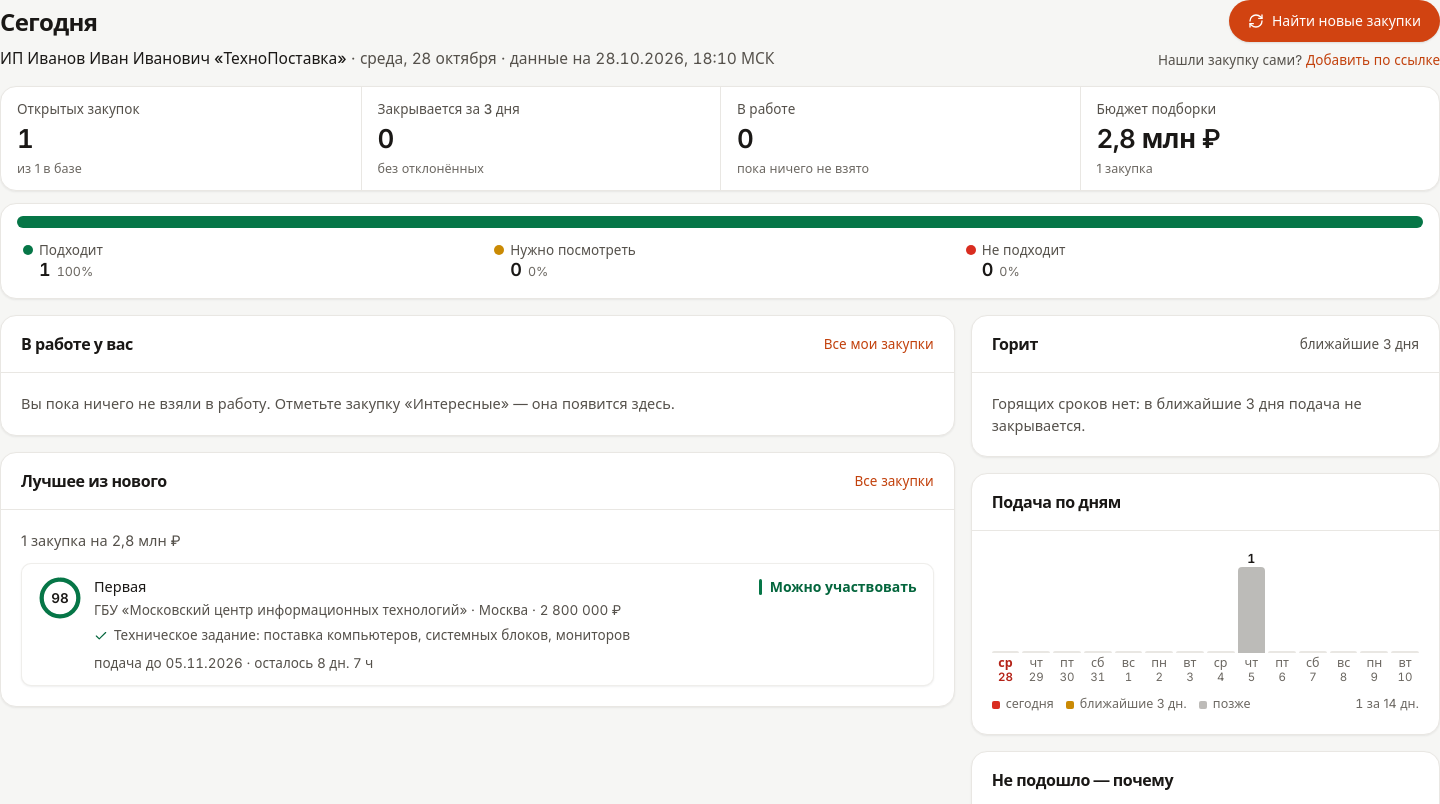
Scenario: DashboardView — экран «Сегодня» › «Найти новые закупки» — одна кнопка: нажатие сразу запускает поиск, панели и второго «Запустить» нет
Click the button "Найти новые закупки": (1334, 21) x1=1229 y1=0 x2=1439 y2=42
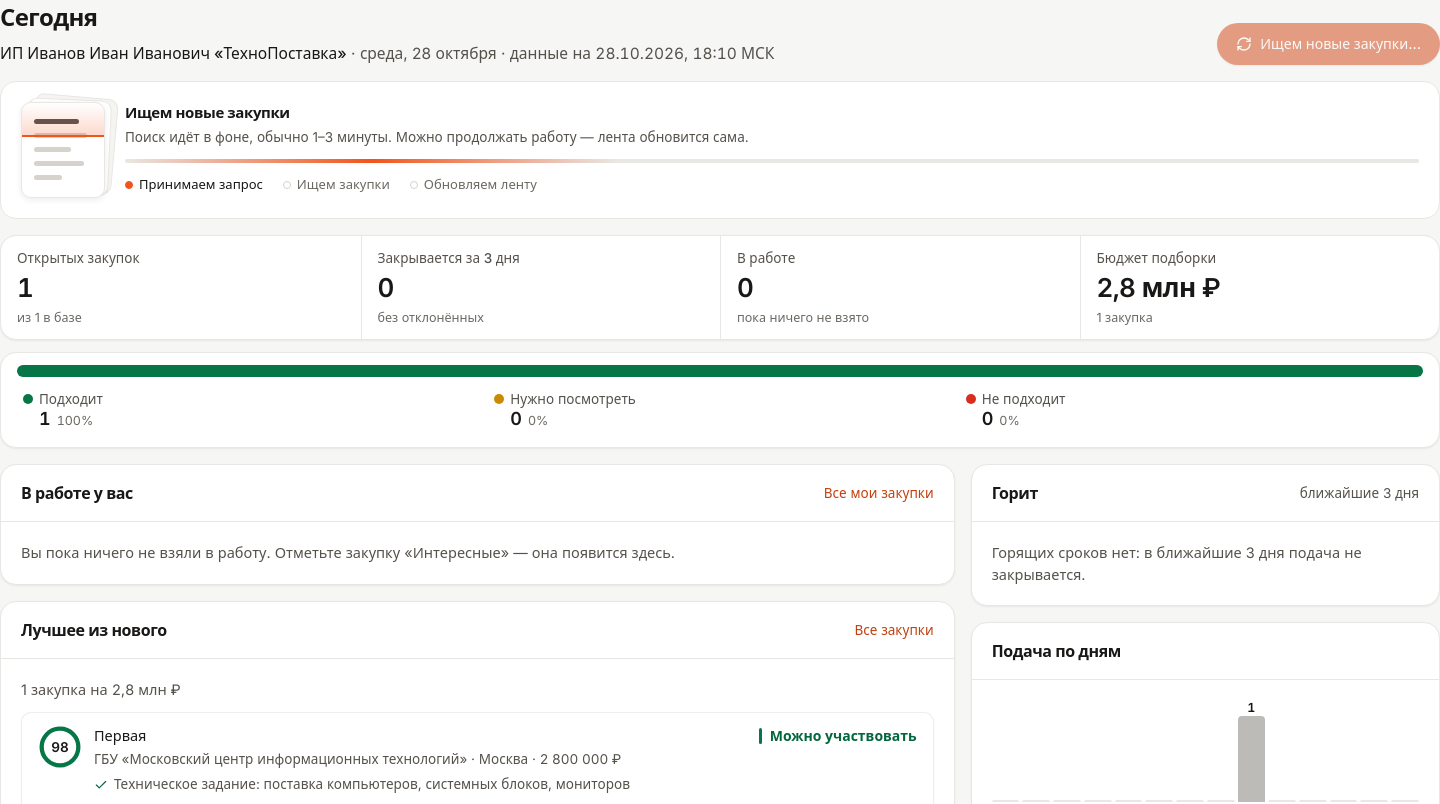
Expected: the message with test id "work-progress" is shown, x1=21 y1=102 x2=1419 y2=198
